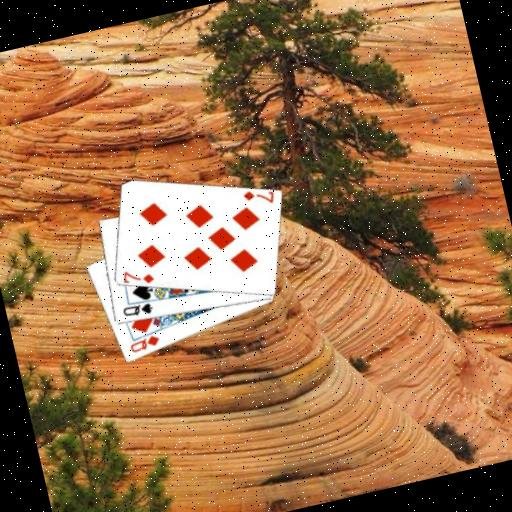7D: (239, 183, 277, 212), (119, 262, 157, 290)
QD: (126, 331, 163, 355)
QS: (119, 298, 156, 321)
